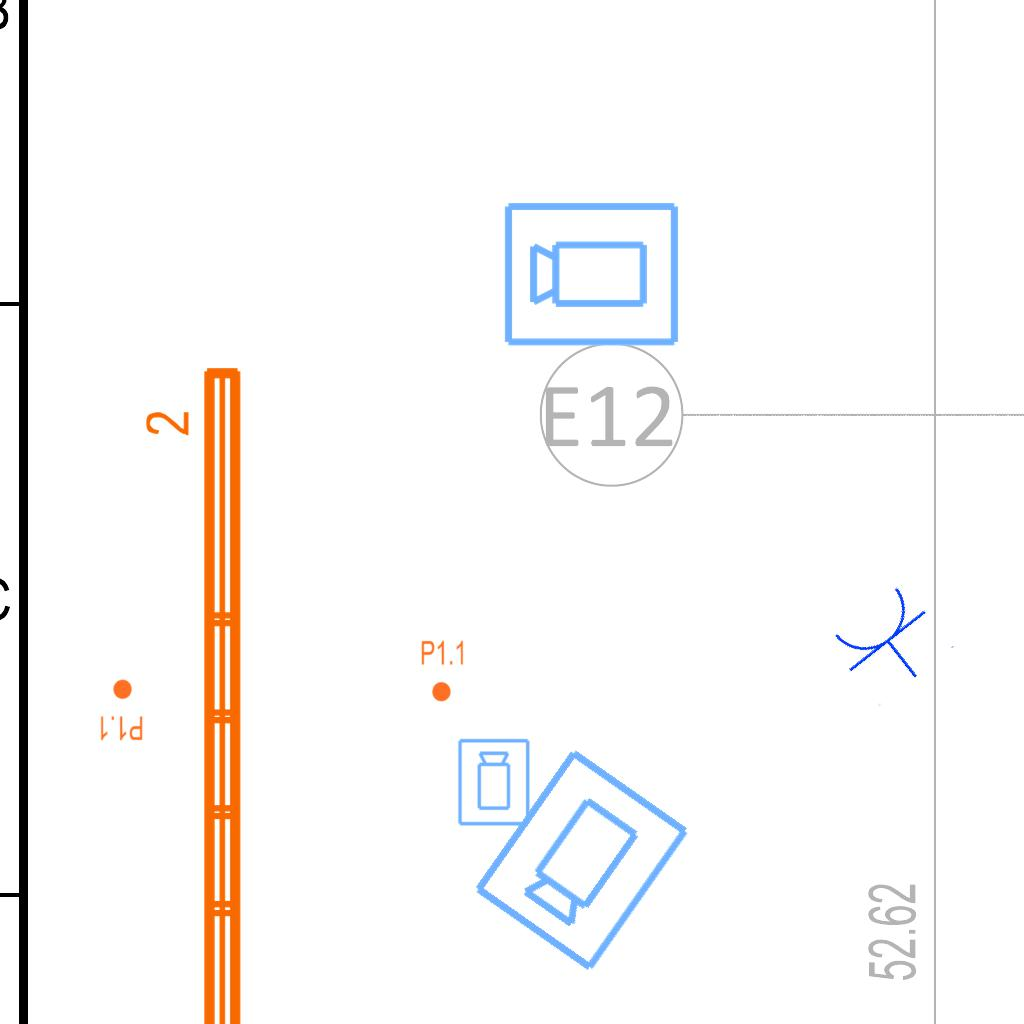Ambulanz_Pendelleuchte_LED: (141, 359, 253, 1024)
Downlight_LED_Einbauleuchten_Flur: (98, 678, 144, 742), (420, 639, 466, 703)
KFO_Kamera_mit_Festobjektiv: (465, 740, 697, 978), (501, 196, 683, 350), (456, 737, 533, 828)
Schukosteckdose_einfach: (823, 577, 957, 708)
